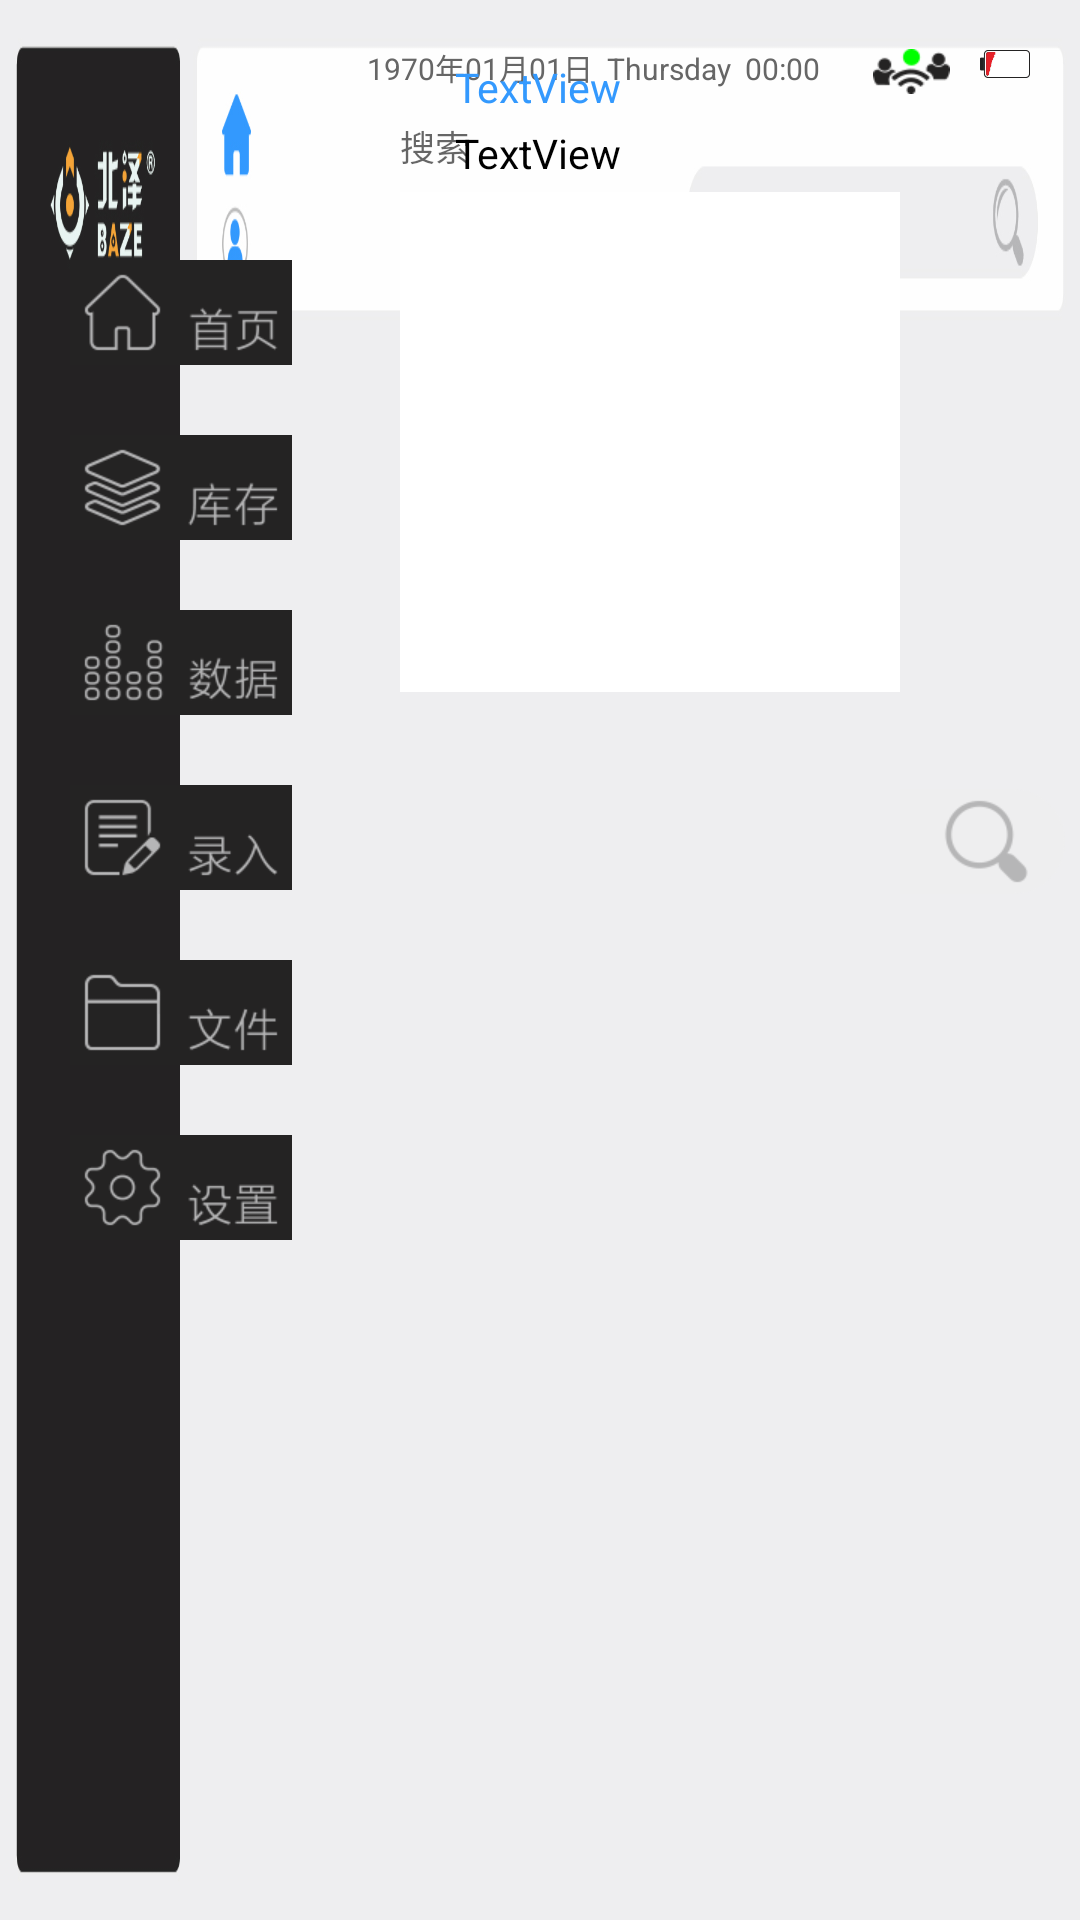

Screen size 1080px x 1920px. Icon name, then its box in pixels as rect(x1, y1, x2, y2):
aerial state: rect(873, 49, 950, 94)
sea label bant search: rect(946, 801, 1027, 882)
sta power: rect(980, 50, 1030, 78)
